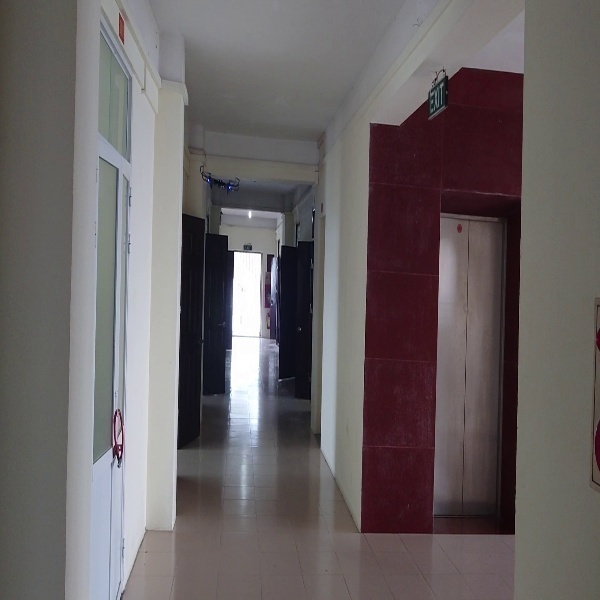drone: (194, 153, 243, 197)
